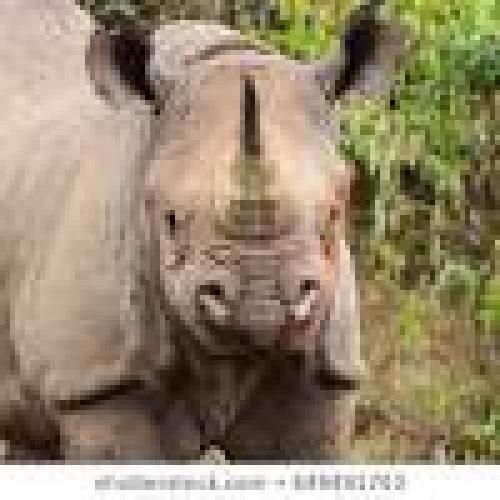rhino-endangered: (0, 8, 384, 458)
